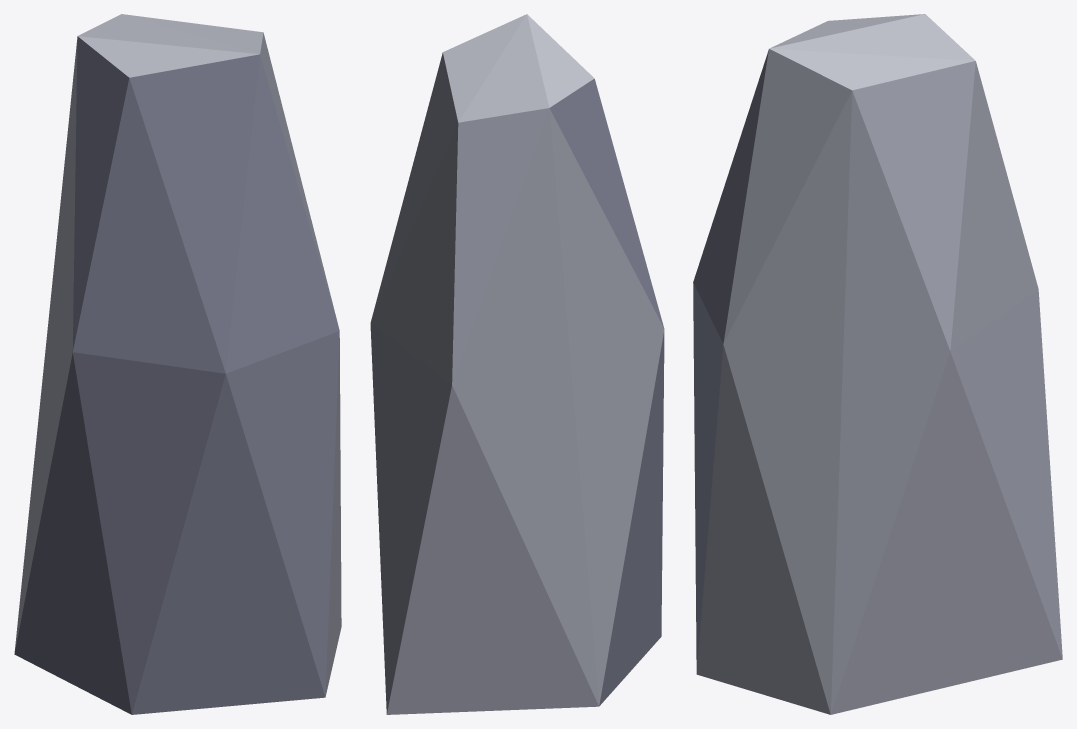
The model's file is stone_tallG.glb.
3 views of the same model, side by side, from view 1: azimuth 30°, elevation 25°; view 2: azimuth 150°, elevation 25°; view 3: azimuth 270°, elevation 25° (orthographic). The views are drawn at different scales.
Parts seen in each view (by area): view 1: stone_tallG; view 2: stone_tallG; view 3: stone_tallG.
Boxes of the visible parts, x1,y1,x2,y2 form: stone_tallG: [14, 14, 341, 714]; stone_tallG: [370, 14, 664, 714]; stone_tallG: [693, 14, 1062, 714].
Size of the model in its own units: 0.3572 by 0.7642 by 0.4182.
1 material, 1 textured.
